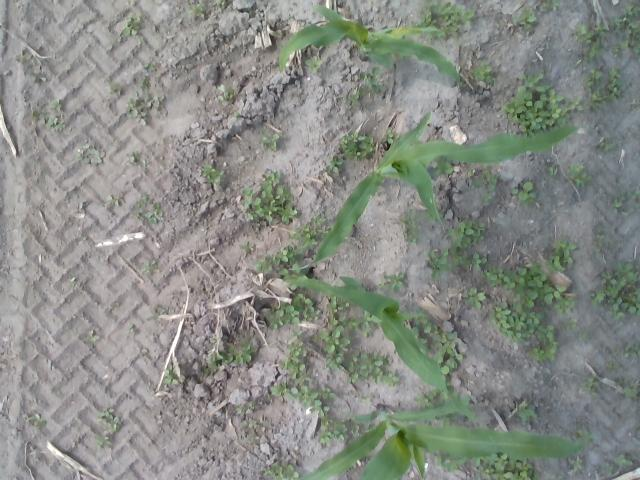Maize: (287, 109, 577, 269), (280, 277, 475, 419), (300, 403, 582, 480), (278, 7, 461, 90)
Weeds: (480, 263, 568, 309), (241, 172, 300, 224), (590, 262, 640, 319), (504, 90, 572, 130), (490, 303, 544, 343), (422, 2, 474, 40), (425, 324, 464, 374), (318, 317, 352, 370), (478, 452, 533, 480), (346, 351, 388, 384), (578, 22, 608, 64), (543, 238, 577, 272), (448, 221, 486, 249), (266, 304, 302, 329), (347, 310, 378, 338), (315, 418, 349, 443), (295, 292, 321, 321), (224, 339, 251, 366), (280, 264, 308, 290), (96, 408, 122, 433), (517, 72, 544, 96), (510, 7, 538, 30), (295, 384, 320, 409), (263, 463, 299, 480), (460, 287, 486, 310), (78, 142, 104, 165), (339, 133, 364, 156), (532, 340, 559, 361), (428, 252, 449, 278), (203, 349, 223, 375), (272, 246, 298, 266), (360, 67, 380, 93), (268, 382, 296, 400), (294, 228, 318, 248), (620, 34, 640, 56), (518, 402, 538, 424), (475, 172, 498, 191), (511, 182, 536, 199), (121, 15, 141, 36), (471, 62, 491, 82), (282, 359, 304, 377), (606, 69, 620, 97), (146, 303, 166, 322), (554, 297, 576, 314), (468, 253, 488, 271), (404, 208, 422, 228), (311, 397, 329, 416), (286, 341, 306, 358), (259, 134, 279, 151), (450, 250, 468, 268), (164, 364, 180, 384), (606, 305, 626, 321), (386, 272, 406, 288), (578, 378, 600, 392), (584, 69, 602, 86), (188, 4, 205, 22), (624, 340, 640, 359), (126, 96, 142, 115), (254, 255, 272, 271), (304, 56, 322, 72), (414, 396, 434, 410), (361, 135, 374, 156), (94, 434, 111, 450), (382, 128, 399, 144), (538, 325, 556, 340), (140, 260, 156, 276), (218, 86, 234, 102), (48, 116, 66, 130), (26, 414, 46, 426), (626, 19, 640, 36), (382, 371, 398, 385), (30, 70, 46, 84), (566, 163, 582, 177), (570, 95, 583, 112), (148, 96, 166, 108), (434, 162, 452, 174), (202, 166, 217, 180), (629, 188, 640, 205), (32, 110, 45, 124), (614, 17, 624, 35), (579, 428, 591, 443), (442, 460, 460, 470), (136, 110, 148, 125), (575, 174, 590, 186), (624, 387, 640, 398), (416, 308, 427, 324), (86, 330, 100, 342), (106, 85, 122, 95), (323, 388, 336, 400), (571, 458, 584, 470), (590, 91, 604, 102), (329, 302, 344, 312), (154, 202, 164, 217), (310, 215, 326, 224), (146, 212, 158, 224), (350, 424, 360, 438), (238, 242, 252, 252), (610, 198, 624, 208), (50, 98, 61, 110), (131, 203, 142, 215), (108, 195, 121, 205), (346, 95, 359, 105), (589, 242, 600, 253), (623, 6, 635, 16), (566, 318, 576, 330), (128, 150, 138, 162), (403, 234, 418, 242), (213, 171, 226, 180), (325, 164, 339, 172), (140, 78, 150, 89), (292, 329, 304, 338), (138, 196, 148, 206), (18, 52, 28, 62), (482, 190, 492, 200), (617, 455, 628, 464), (604, 143, 616, 151), (607, 360, 615, 372), (330, 156, 343, 163), (144, 61, 154, 70), (576, 23, 584, 34), (127, 324, 136, 333), (549, 168, 558, 177), (362, 395, 372, 403), (604, 462, 614, 470), (550, 1, 558, 11), (248, 403, 255, 414), (110, 301, 118, 310), (430, 390, 442, 396), (485, 76, 495, 83), (579, 332, 587, 340), (71, 276, 77, 286), (215, 0, 227, 5), (587, 102, 595, 108), (613, 348, 619, 356), (614, 46, 620, 53), (482, 163, 488, 170), (595, 234, 605, 238), (636, 428, 640, 438), (236, 408, 242, 414), (252, 346, 258, 352), (200, 291, 209, 295), (210, 338, 216, 343), (617, 379, 622, 385), (378, 283, 383, 289), (612, 208, 618, 212)
